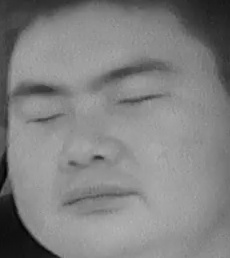blink: (117, 81, 165, 112), (23, 102, 65, 131)
mouth: (59, 174, 136, 216)
